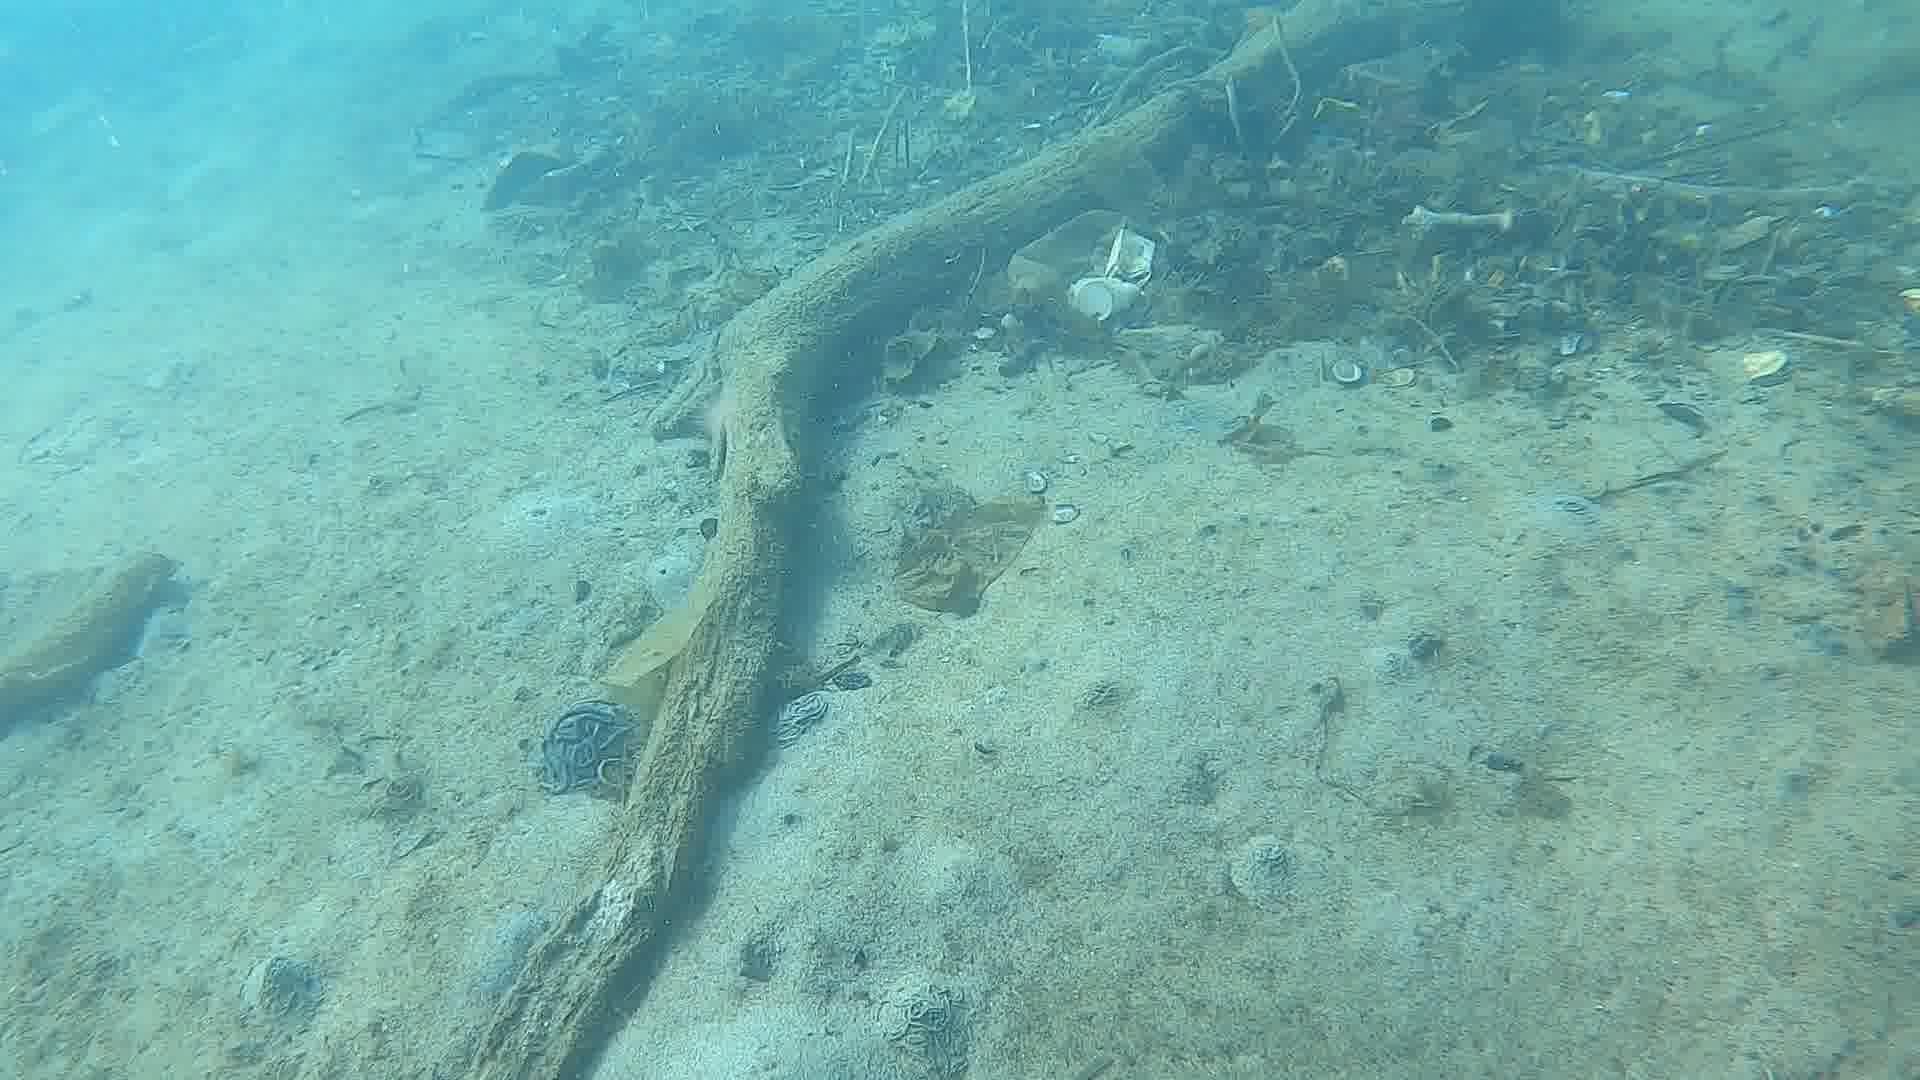wood: (473, 0, 1404, 1080)
